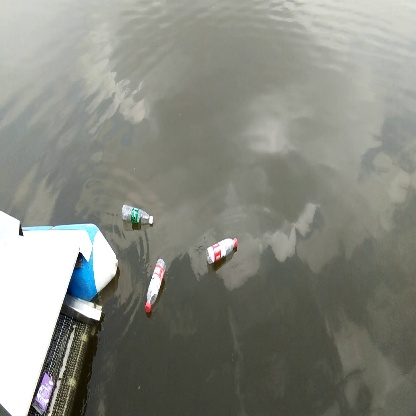bottle: (142, 255, 171, 317), (204, 234, 244, 275), (116, 201, 156, 226)
